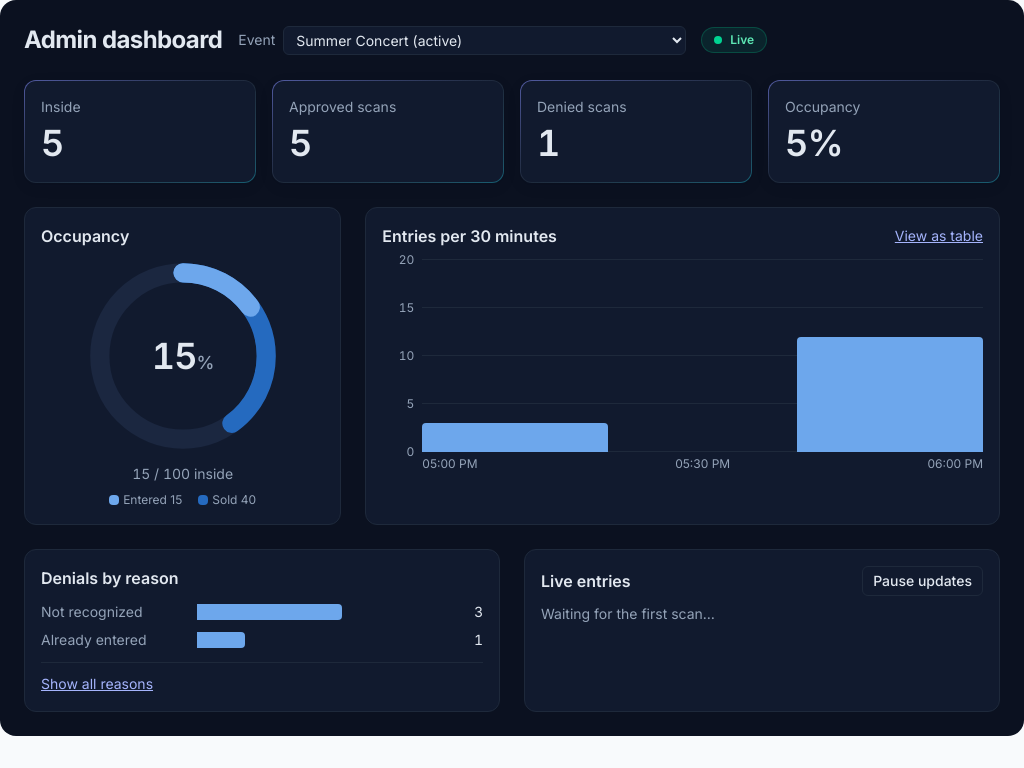
Test: DashboardPage › denials by reason: sorted, readable, zeros optional
Click the button "Show all reasons".
click(97, 684)  # box [41,674,153,694]
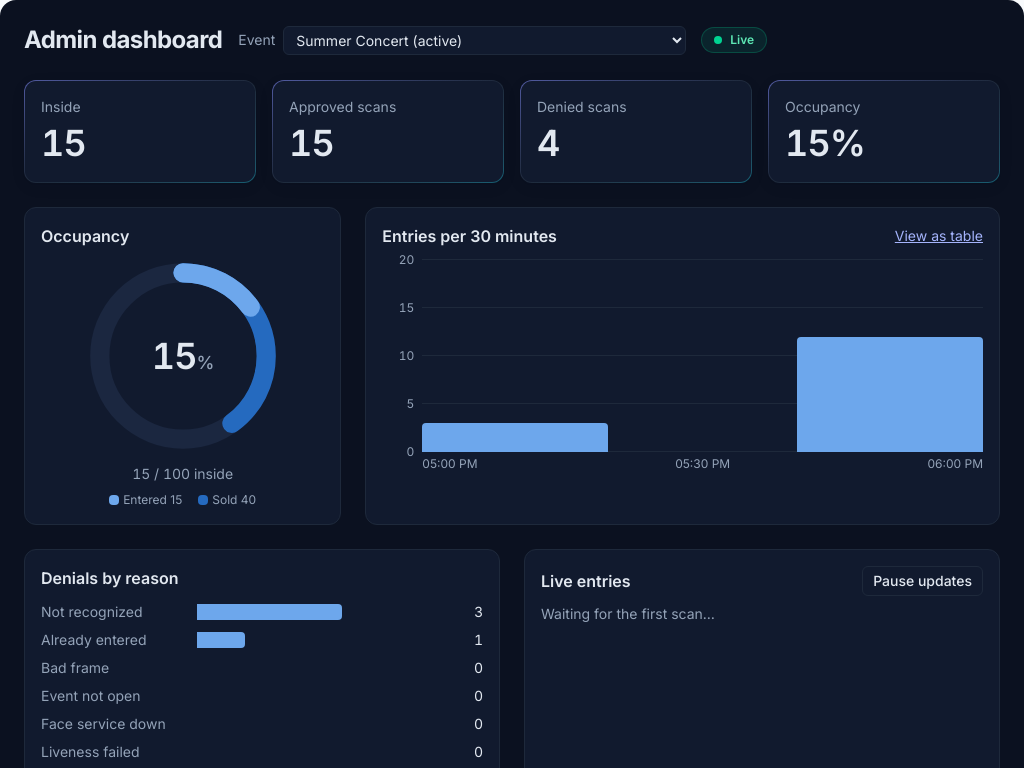
Expected: the number of list items is 7
